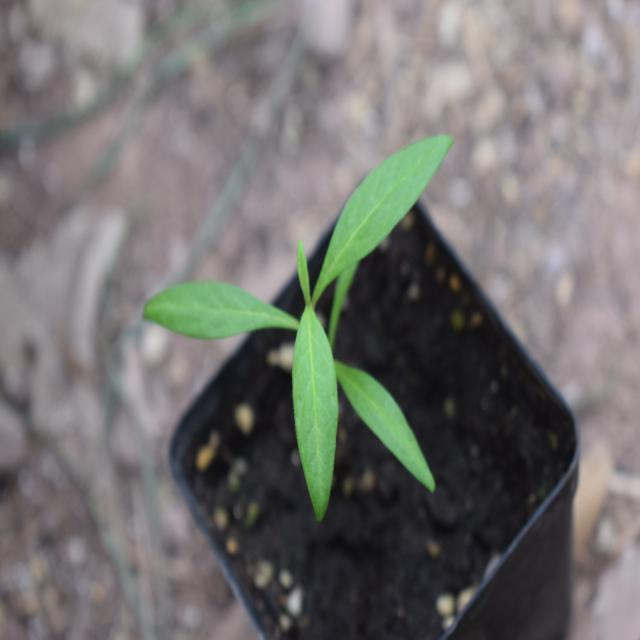white_smart_weed: (140, 115, 468, 495)
